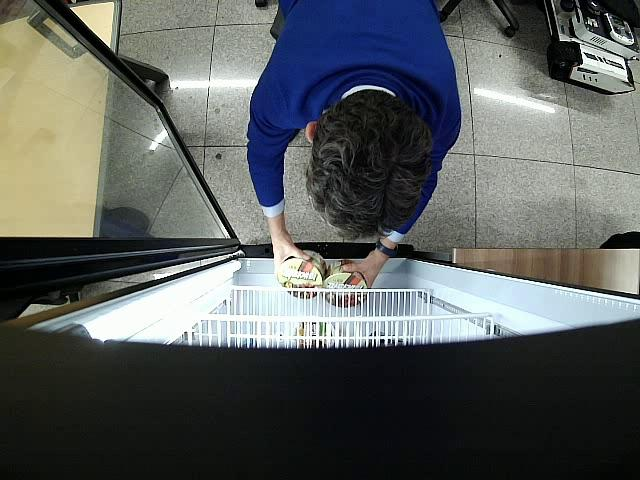00_hand: (272, 227, 312, 278), (341, 252, 384, 289)
03_chapagetti_L: (277, 250, 327, 299), (322, 259, 368, 308)
